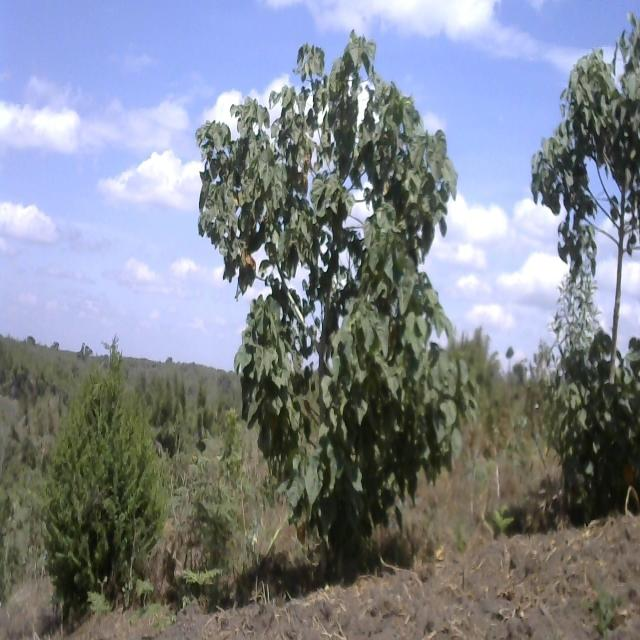cedrus: (47, 337, 166, 611)
other: (196, 24, 479, 541), (523, 16, 640, 489)
